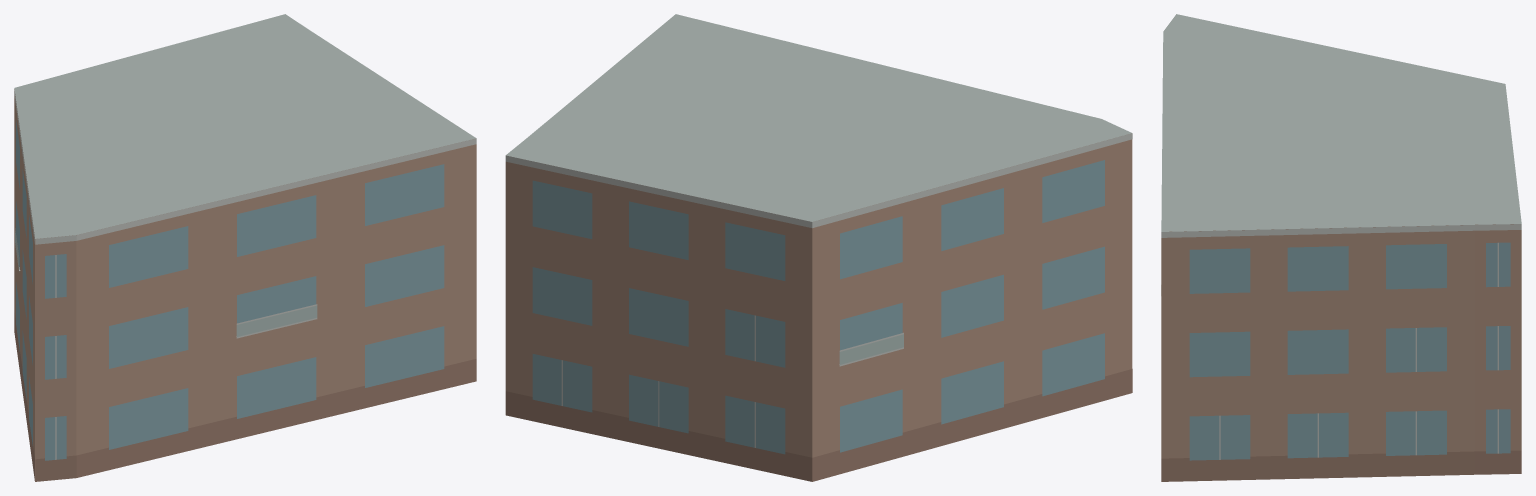
The model's file is survey-upis-32554400.glb.
3 renders of one model, left to right at view 1: azimuth 30°, elevation 25°; view 2: azimuth 150°, elevation 25°; view 3: azimuth 270°, elevation 25°, orthographic. The views are drawn at different scales.
Visible parts, largest first — view 1: survey-upis-32554400.tmp; view 2: survey-upis-32554400.tmp; view 3: survey-upis-32554400.tmp.
Boxes of the visible parts, left/top/right/bottom form: survey-upis-32554400.tmp: left=14, top=14, right=476, bottom=481; survey-upis-32554400.tmp: left=505, top=14, right=1132, bottom=481; survey-upis-32554400.tmp: left=1161, top=14, right=1521, bottom=481.
Bounding box in the file's own units: 19.09 × 10.2 × 13.35.
